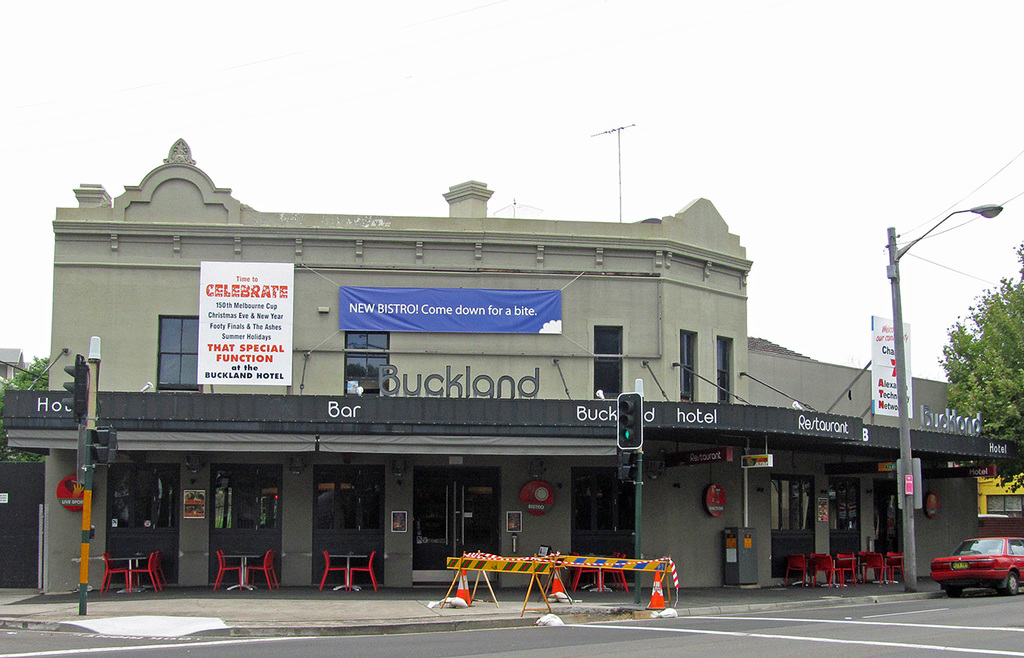car: (923, 503, 1024, 600)
